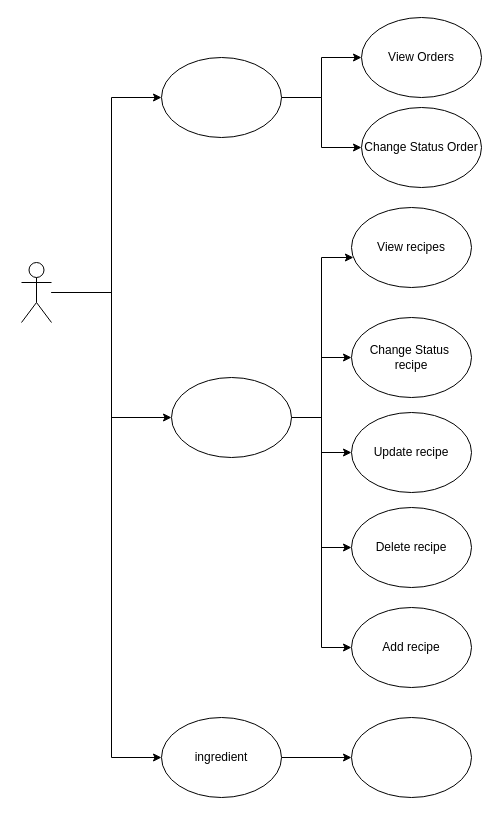
The diagram is 499 pixels wide and 815 high, and some of its shapes have lost their labels. Here are the shapes that lost their labels. From the top down, the box of each, then its label:
(160, 56, 282, 138): Orders
(20, 262, 52, 322): Worker
(170, 376, 292, 458): Recipes
(350, 716, 472, 798): View ingredient
